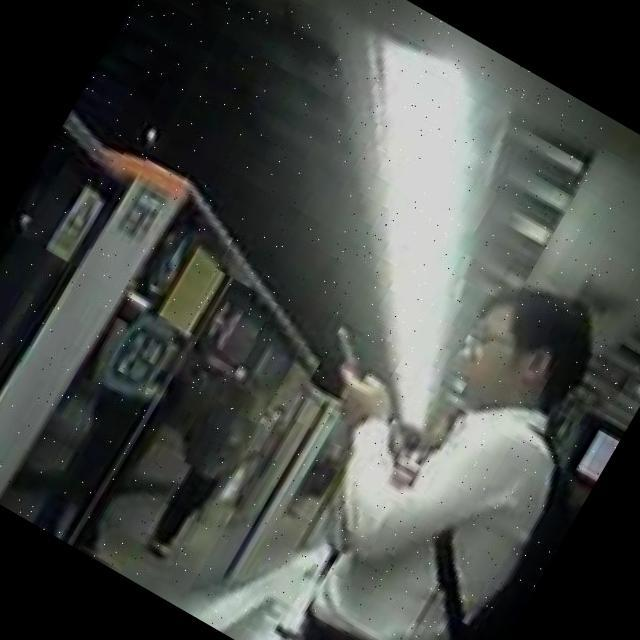person: (209, 221, 640, 640), (123, 356, 288, 574)
